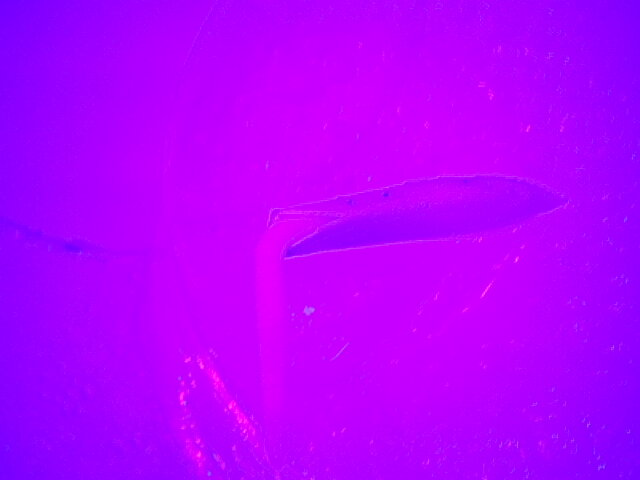sprout: (238, 125, 554, 421)
